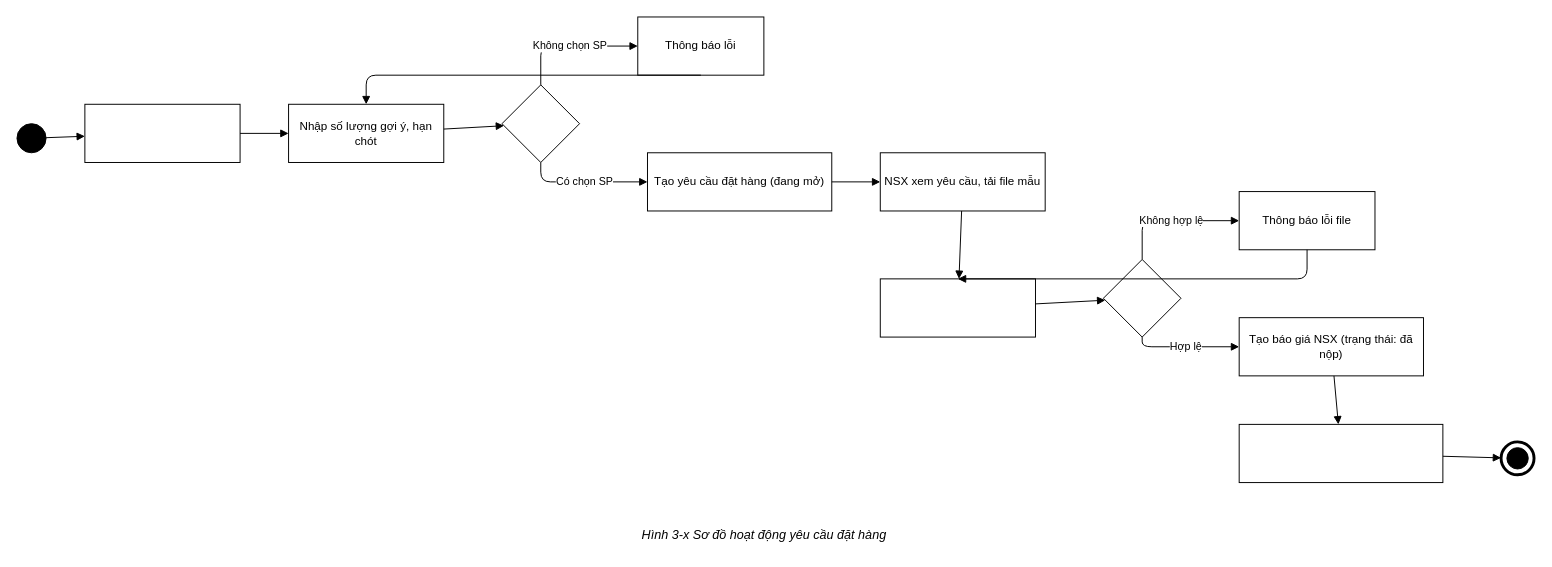
Some shapes in this 1552 by 567 pixel diagram are drawn without their labels. Here are the shapes that lost their labels. From the top down, the centre of each, then its label:
At point 162,132: "Admin chọn sản phẩm cần nhập".
At point 957,307: "NSX upload file báo giá".
At point 1340,453: "Admin chọn báo giá, tạo đơn đặt hàng NSX".
